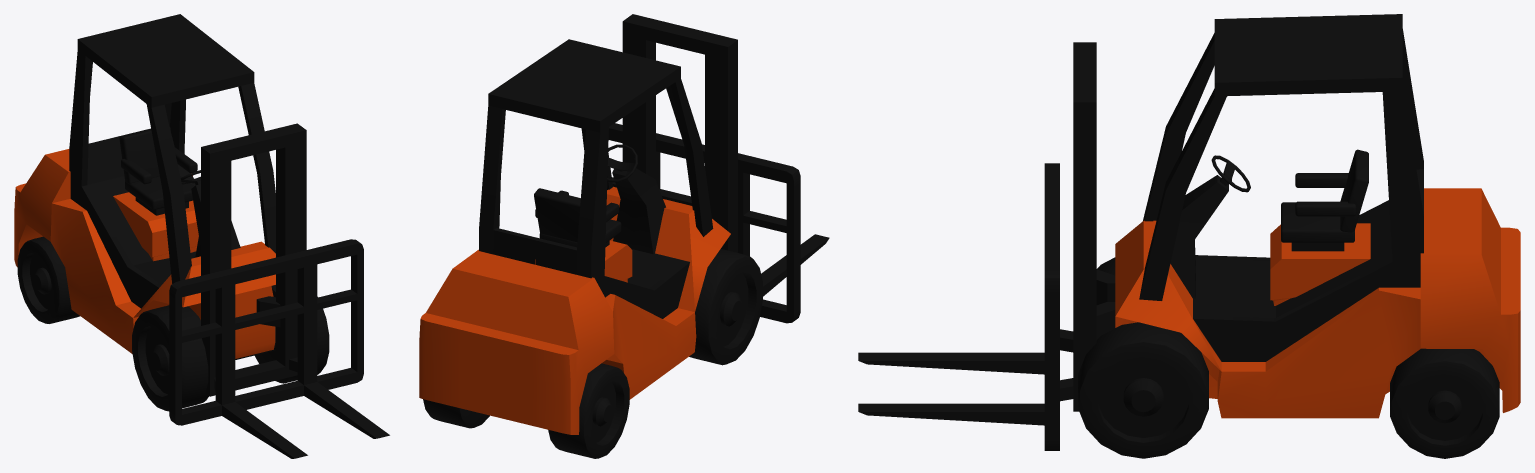
Rendered from Forklift_v1.fbx.
3 renders of one model, left to right at view 1: azimuth 30°, elevation 25°; view 2: azimuth 150°, elevation 25°; view 3: azimuth 270°, elevation 25°, orthographic. The views are drawn at different scales.
Visible parts, largest first — view 1: Forklift_Body, Forklift_Lift, Forklift_FrontWheels, Forklift_BackWheels; view 2: Forklift_Body, Forklift_Lift, Forklift_FrontWheels, Forklift_BackWheels; view 3: Forklift_Body, Forklift_FrontWheels, Forklift_Lift, Forklift_BackWheels.
Boxes of the visible parts, x1,y1,x2,y2 form: Forklift_Body: (14,14,306,396); Forklift_Lift: (169,239,389,458); Forklift_FrontWheels: (132,285,329,411); Forklift_BackWheels: (17,236,79,323); Forklift_Body: (419,14,737,434); Forklift_Lift: (608,123,829,323); Forklift_FrontWheels: (689,249,762,365); Forklift_BackWheels: (423,363,629,458); Forklift_Body: (1073,14,1520,418); Forklift_FrontWheels: (1078,257,1208,458); Forklift_Lift: (858,163,1073,450); Forklift_BackWheels: (1390,348,1499,458).
Bounding box in the file's own units: 398 × 584 × 950.
